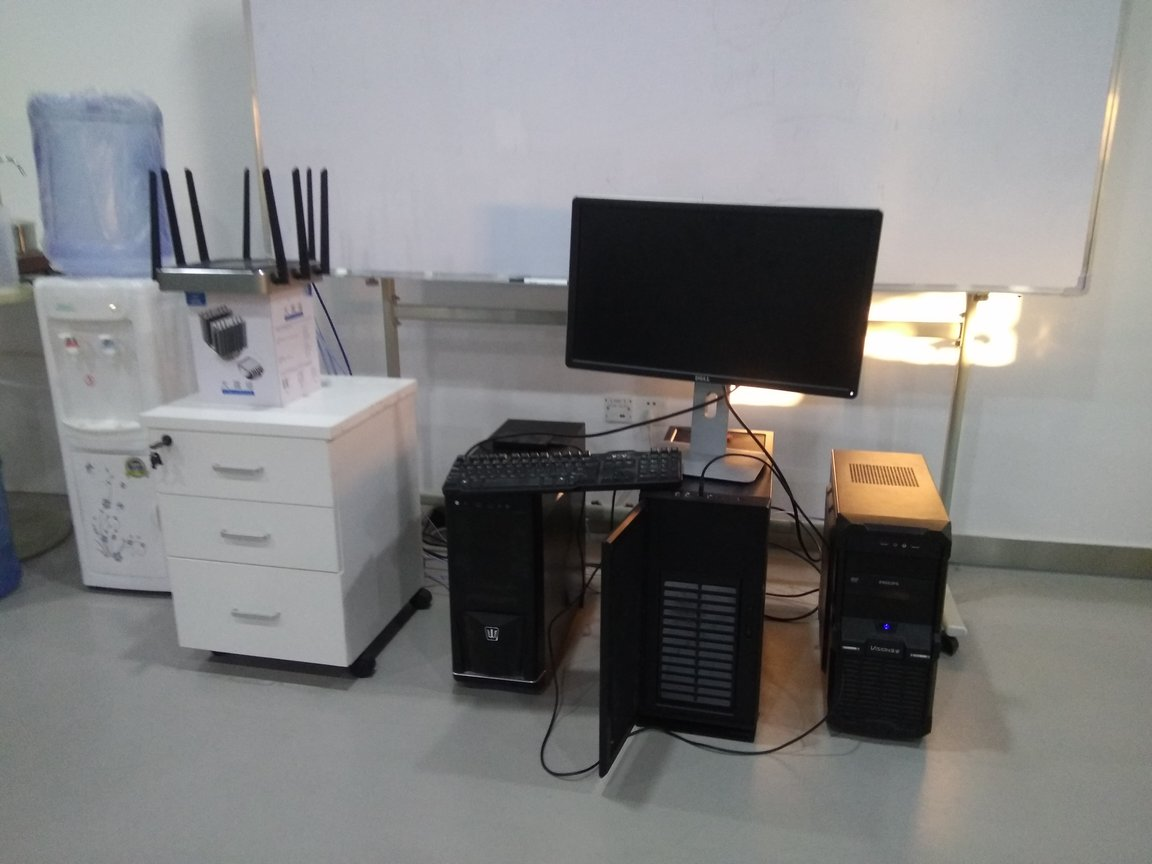computer: (602, 421, 776, 783), (447, 414, 592, 702), (822, 441, 941, 750)
drawer chest: (138, 377, 431, 694)
monitor: (563, 191, 877, 484)
scuttlebutt: (28, 78, 175, 283)
water dispenser: (29, 269, 200, 610)
